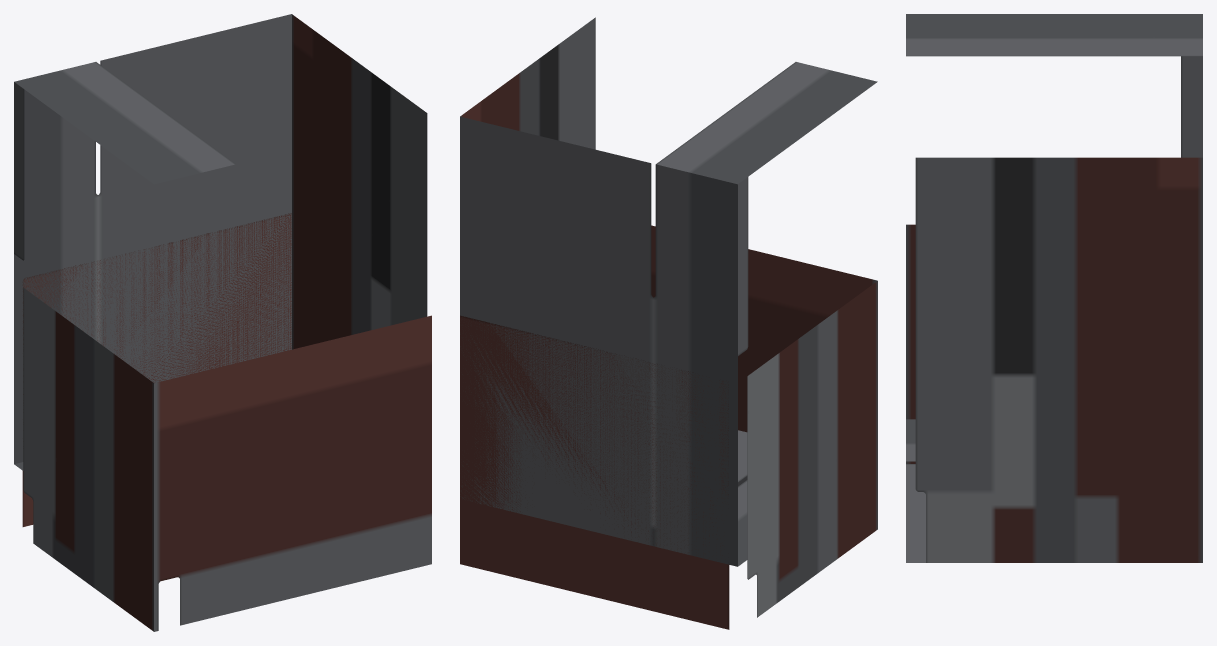
The model's file is section-0.obj.
3 renders of one model, left to right at view 1: azimuth 30°, elevation 25°; view 2: azimuth 150°, elevation 25°; view 3: azimuth 270°, elevation 25°, orthographic. The views are drawn at different scales.
Size of the model in its own units: 0.95 by 1.46 by 0.83.
